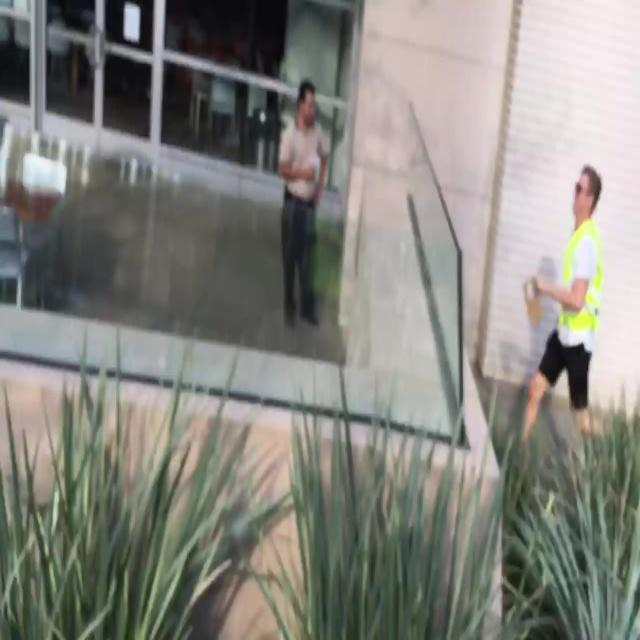vest: (555, 292, 601, 444)
